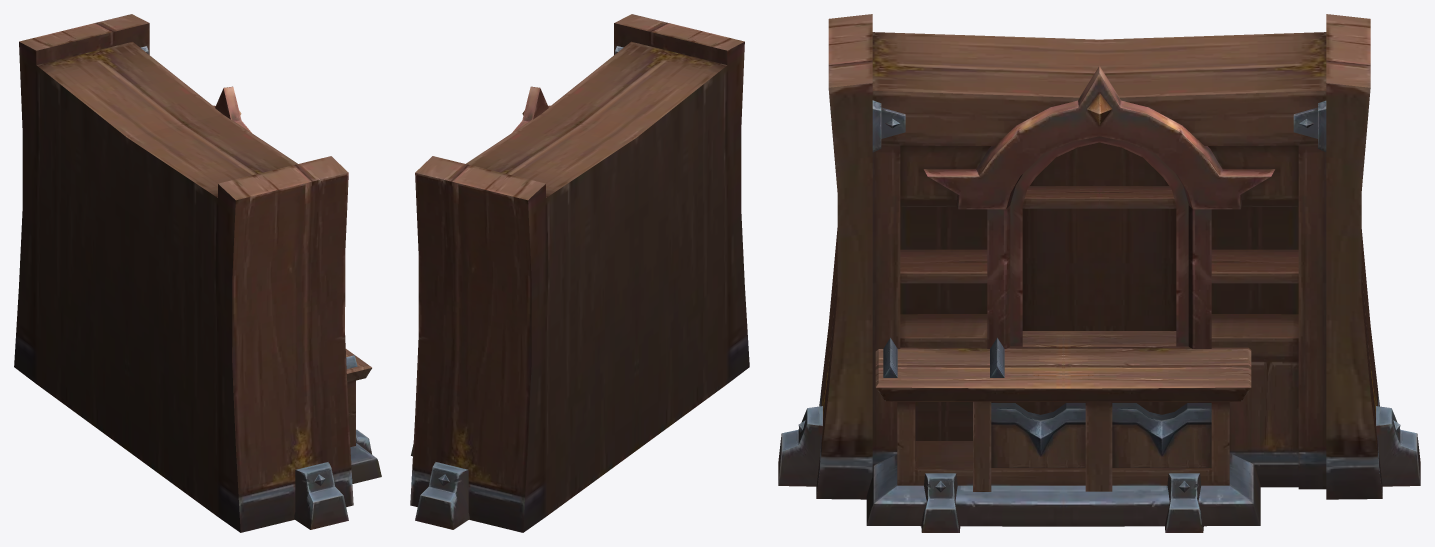
3 views of the same model, side by side, from view 1: azimuth 30°, elevation 25°; view 2: azimuth 150°, elevation 25°; view 3: azimuth 270°, elevation 25° (orthographic). The views are drawn at different scales.
Size of the model in its own units: 2.82 by 5.24 by 7.2.
1 material, 1 textured.
